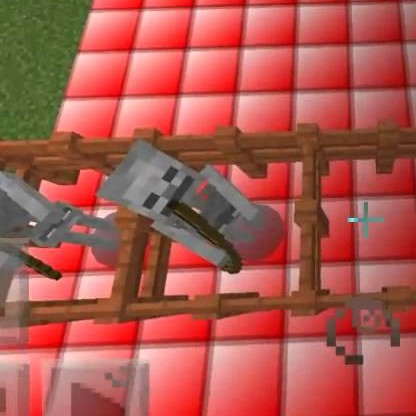skeleton: (93, 135, 247, 243)
